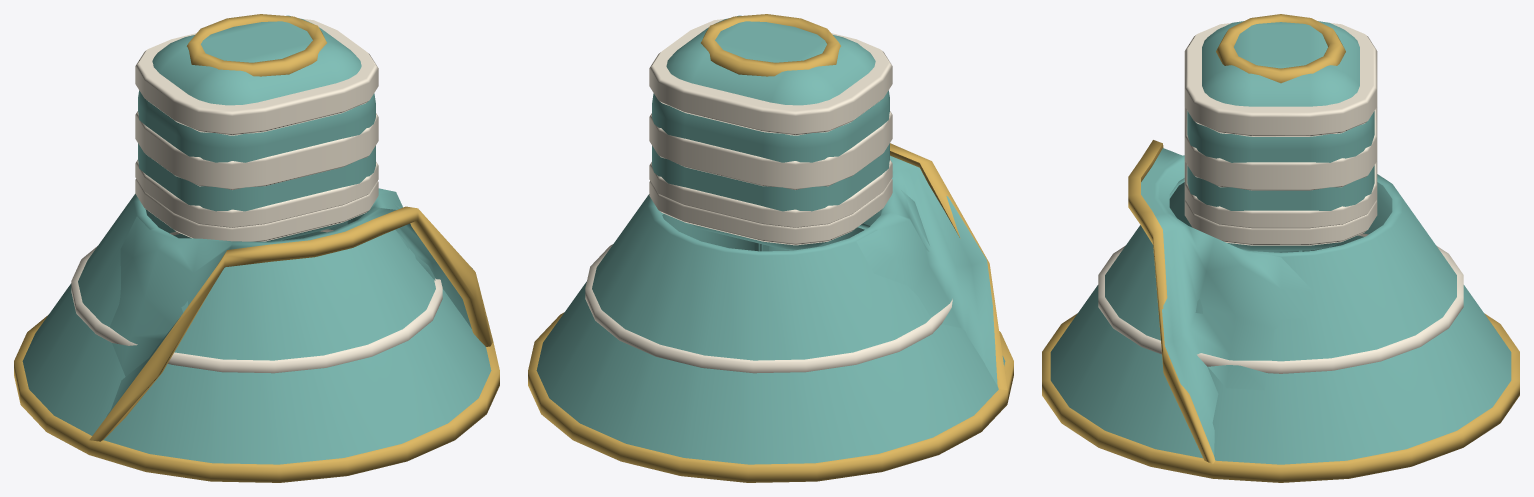
Rendered from ancient_princess_costume.glb.
The picture shows the model from 3 angles, left to right: view 1: azimuth 30°, elevation 25°; view 2: azimuth 150°, elevation 25°; view 3: azimuth 270°, elevation 25°; orthographic projection.
Parts seen in each view (by area): view 1: ancient_princess_costume_Body, ancient_princess_costume_Body_sit; view 2: ancient_princess_costume_Body, ancient_princess_costume_Body_sit, ancient_princess_costume_LegR_sit; view 3: ancient_princess_costume_Body, ancient_princess_costume_Body_sit.
Boxes of the visible parts, box(x1,y1,x2,y2) form: ancient_princess_costume_Body: box(14, 14, 499, 482); ancient_princess_costume_Body_sit: box(89, 18, 493, 441); ancient_princess_costume_Body: box(528, 14, 1013, 482); ancient_princess_costume_Body_sit: box(649, 18, 1007, 389); ancient_princess_costume_LegR_sit: box(661, 212, 762, 251); ancient_princess_costume_Body: box(1042, 14, 1519, 482); ancient_princess_costume_Body_sit: box(1128, 23, 1392, 463).
Bounding box in the file's own units: 0.748 × 0.6289 × 0.7404.
